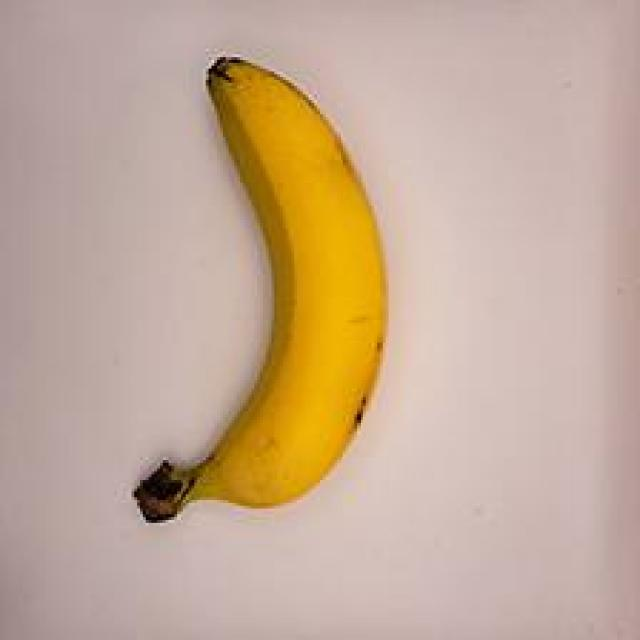ripe: (80, 30, 428, 546)
